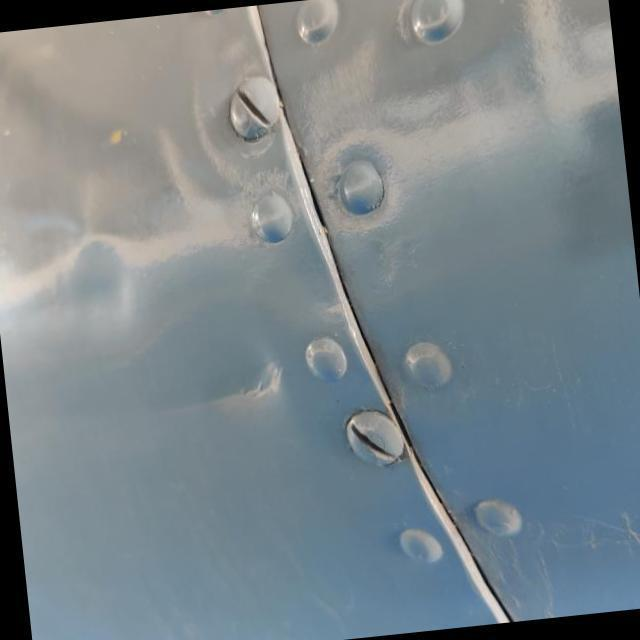Dent: (186, 338, 302, 441)
